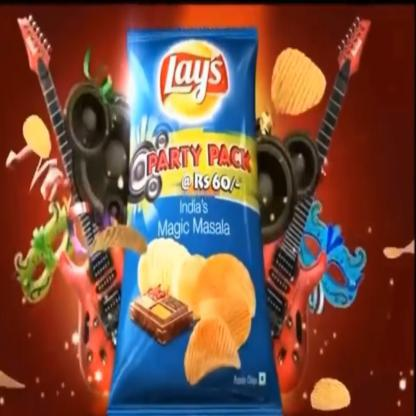indian_magic_masala: (111, 30, 278, 409)
